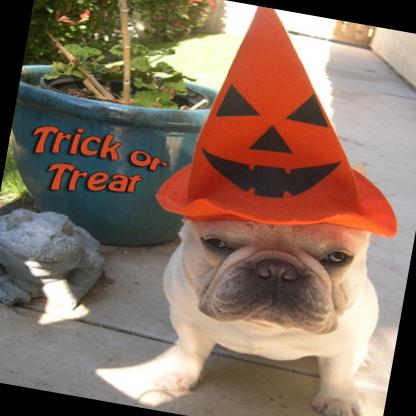French_bulldog: (138, 130, 404, 416)
